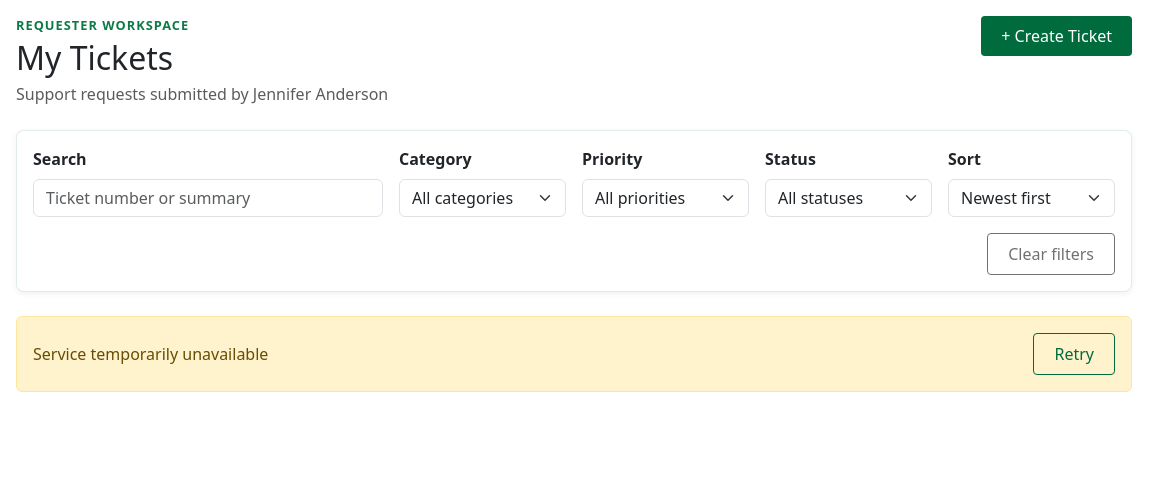
it: MyTickets › shows a non-blocking failure state and retries
This screenshot has width=1149, height=490.
Expected: the text "Service temporarily unavailable" is shown, [33,342,268,366]
Click the button "Retry" at (1074, 354), box [1034,333,1115,375]
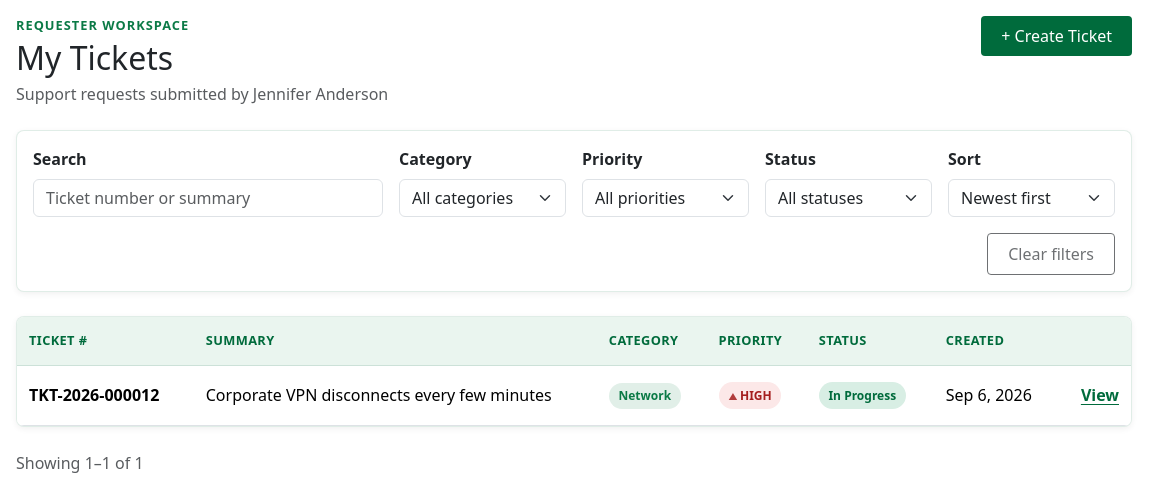
Now the text "TKT-2026-000012" is shown, box [17,365,194,426]
